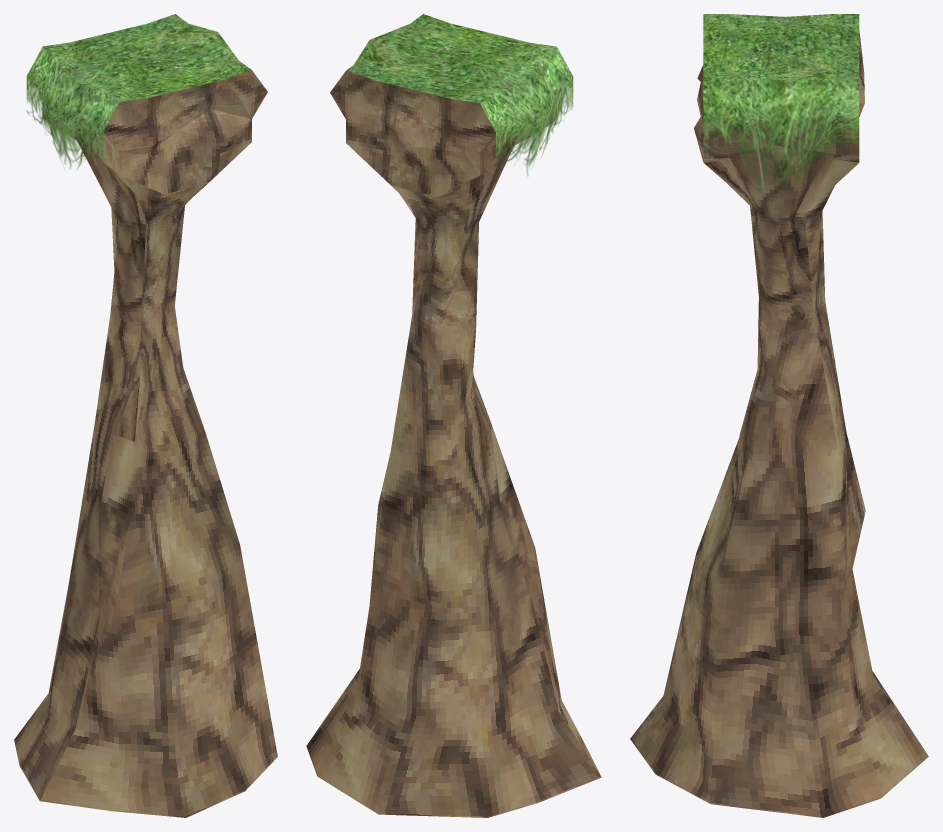
3 renders of one model, left to right at view 1: azimuth 30°, elevation 25°; view 2: azimuth 150°, elevation 25°; view 3: azimuth 270°, elevation 25°, orthographic.
Parts seen in each view (by area): view 1: objcol, objVar; view 2: objcol, objVar; view 3: objcol, objVar.
Boxes of the visible parts, <box> form: objcol: <box>14,70,277,817</box>; objVar: <box>26,14,251,169</box>; objcol: <box>306,70,601,817</box>; objVar: <box>346,14,573,175</box>; objcol: <box>630,30,928,817</box>; objVar: <box>703,14,859,193</box>.
Bounding box in the file's own units: 379 × 1009 × 383.
Materials: 2 (2 with a texture image).
